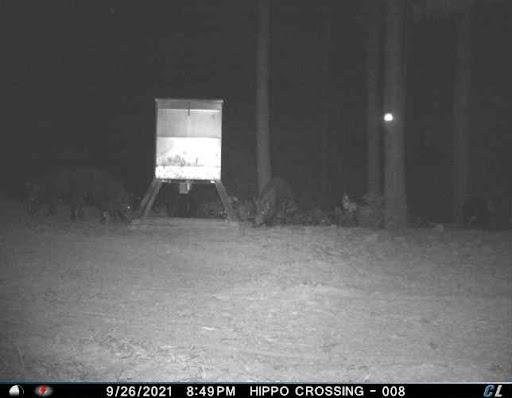Hog: (58, 161, 142, 225), (248, 175, 296, 230), (22, 164, 60, 223)
